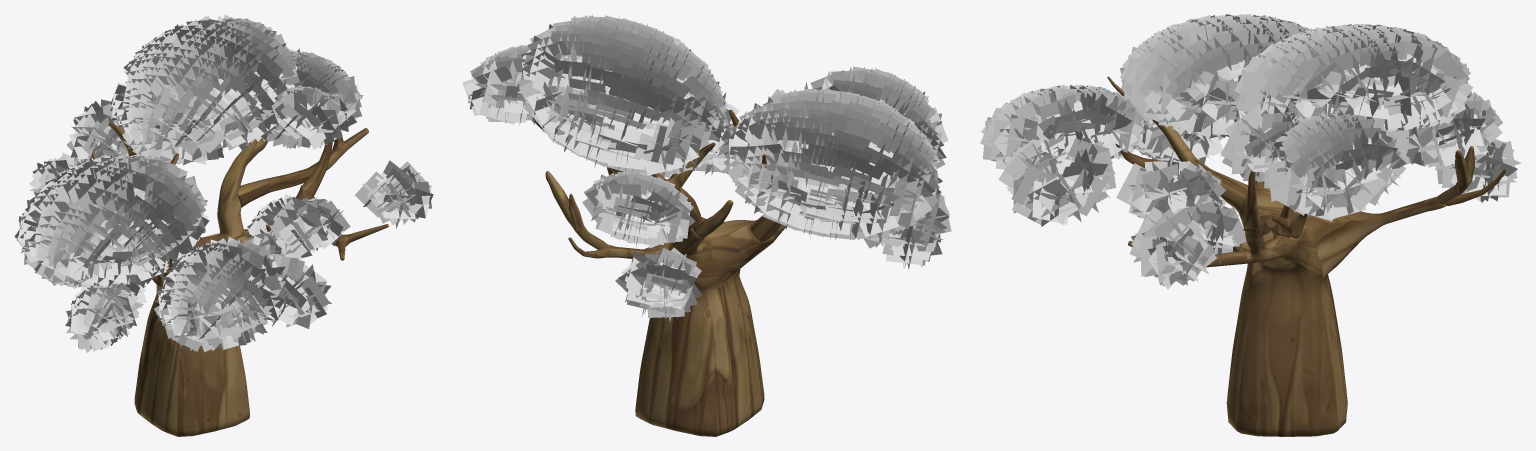
File: TREE.fbx
3 renders of one model, left to right at view 1: azimuth 30°, elevation 25°; view 2: azimuth 150°, elevation 25°; view 3: azimuth 270°, elevation 25°, orthographic. The views are drawn at different scales.
Visible parts, largest first — view 1: Plane.001, Vert.002; view 2: Plane.001, Vert.002; view 3: Plane.001, Vert.002.
Part boxes in pixels (x1,y1,x2,y2): Plane.001: (14,14,433,352); Vert.002: (92,122,388,436); Plane.001: (462,14,951,322); Vert.002: (535,109,786,436); Plane.001: (980,14,1521,289); Vert.002: (1107,76,1506,436).
Bounding box in the file's own units: 2423 × 2172 × 2542.
2 materials, 1 textured.
